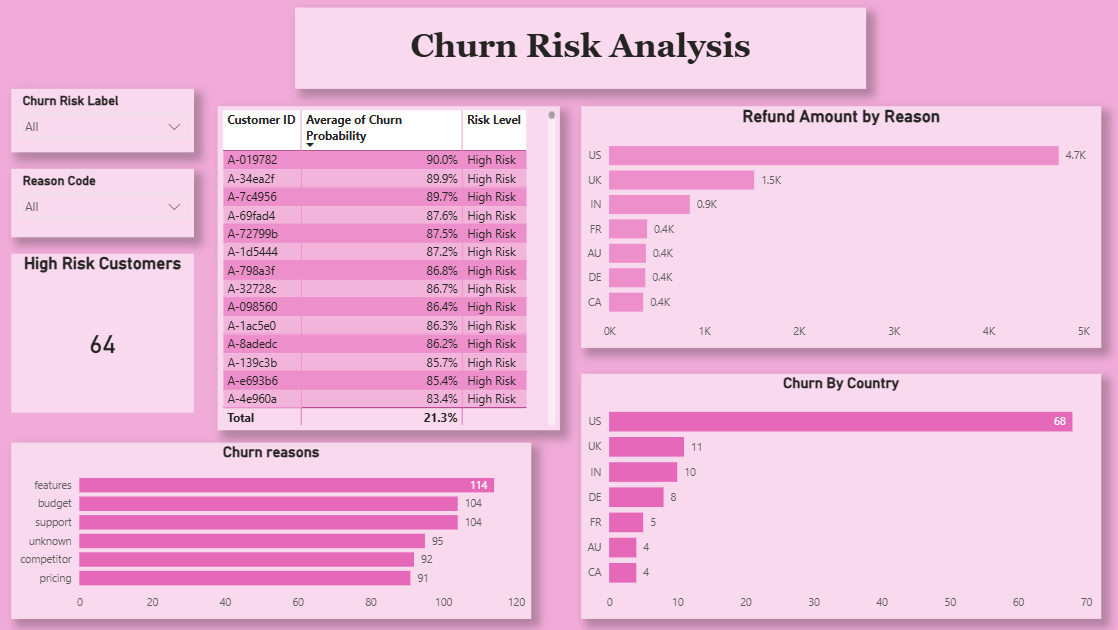

The dashboard page shown, as its layout file describes it:
{"tool":"powerbi","page":{"name":"Churn  Analysis","canvas":[1280,720],"ordinal":1},"visuals":[{"type":"textbox","box":[337.5,8.8,652.5,92.5],"z":0},{"type":"slicer","fields":{"Values":["churn_scores.churn_risk_label"]},"box":[12.9,101.4,208.6,72.9],"z":1000},{"type":"slicer","fields":{"Values":["churn_events.reason_code"]},"box":[12.9,192.9,208.6,78.6],"z":2000},{"type":"tableEx","fields":{"Values":["accounts.account_id","Avg(churn_scores.churn_probability)","churn_scores.churn_risk_label"]},"box":[248.6,121.4,391.4,370],"z":3000},{"type":"clusteredBarChart","title":"Churn reasons","fields":{"Y":["CountNonNull(churn_events.churn_event_id)"],"Category":["churn_events.reason_code"]},"box":[12.9,505.7,594.3,201.4],"z":4000},{"type":"clusteredBarChart","title":"Churn By Country","fields":{"Y":["Sum(accounts.churn_flag)"],"Category":["accounts.country"]},"box":[664.3,427.1,594.3,280],"z":5000},{"type":"clusteredBarChart","title":" Refund Amount by Reason","fields":{"Y":["Sum(churn_events.refund_amount_usd)"],"Category":["accounts.country"]},"box":[664.3,121.4,594.3,275.7],"z":6000},{"type":"card","title":"High Risk Customers","fields":{"Values":["accounts.High Risk Customers"]},"box":[12.9,290,208.6,181.4],"z":6001}]}

Visuals, with their boxes in screenshot pixels (x1, y1, x2, y2), scaled from the page's 1280x720 canvas onto the 1118x630 screenshot:
textbox: select_region(295, 8, 865, 89)
slicer - churn_scores.churn_risk_label: select_region(11, 89, 193, 153)
slicer - churn_events.reason_code: select_region(11, 169, 193, 238)
tableEx - accounts.account_id x Avg(churn_scores.churn_probability): select_region(217, 106, 559, 430)
"Churn reasons" clusteredBarChart: select_region(11, 442, 530, 619)
"Churn By Country" clusteredBarChart: select_region(580, 374, 1099, 619)
" Refund Amount by Reason" clusteredBarChart: select_region(580, 106, 1099, 347)
"High Risk Customers" card: select_region(11, 254, 193, 412)
